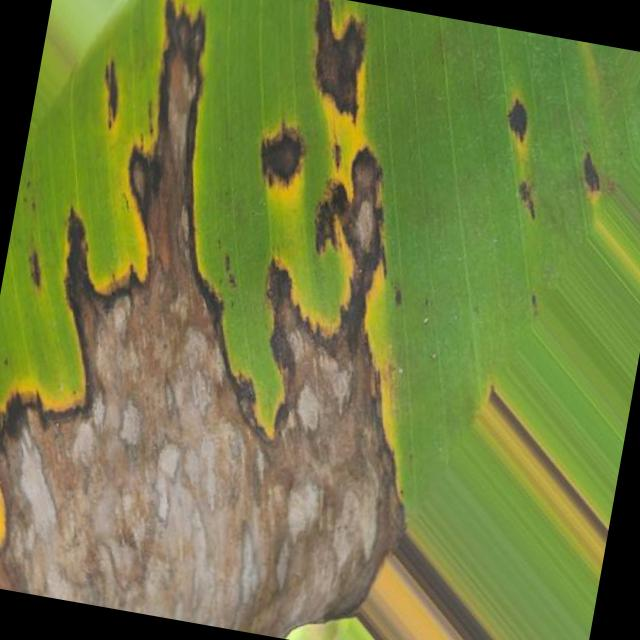Banana_Black_Sigatoka: (42, 0, 477, 398), (0, 363, 425, 640)
